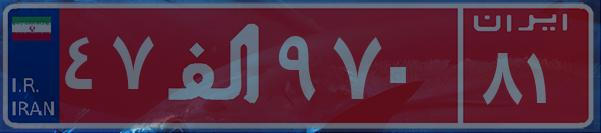0: (385, 28, 445, 110)
1: (525, 38, 570, 115)
4: (57, 26, 110, 107)
7: (330, 28, 385, 110), (110, 28, 158, 105)
8: (475, 38, 525, 113)
9: (273, 28, 330, 110)
الف: (158, 15, 273, 115)
